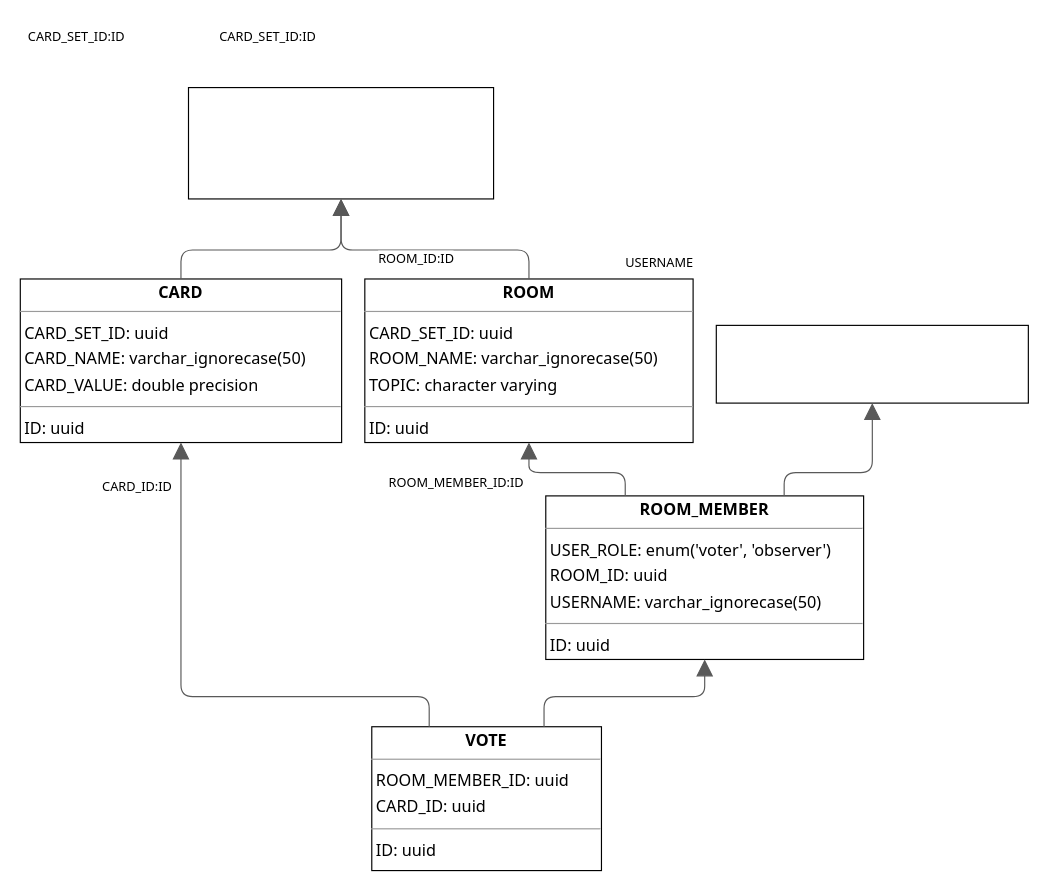
Some shapes in this 1049 by 891 pixel diagram are drawn without their labels. Here are the shapes that lost their labels. From the top down, the centre of each, then its label:
At pixel 340 142: "CARD_SET SET_NAME: varchar_ignorecase(50) ID: uuid".
At pixel 871 363: "APP_USER USERNAME: varchar_ignorecase(50)".
